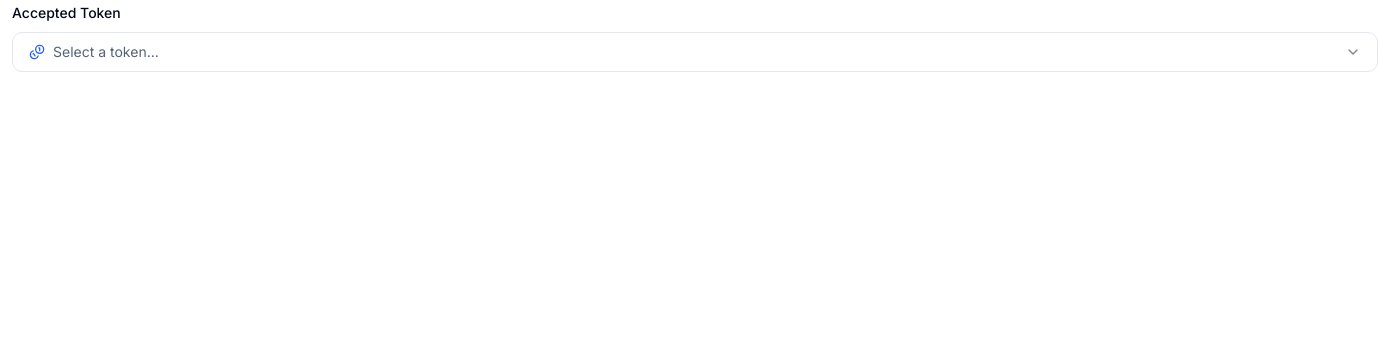
Test: TokenSelector — custom token › rejects a malformed id and clears the error when the input is emptied
The width and height of the screenshot is (1390, 360).
Click the button at (106, 52), box x1=12 y1=32 x2=1378 y2=72
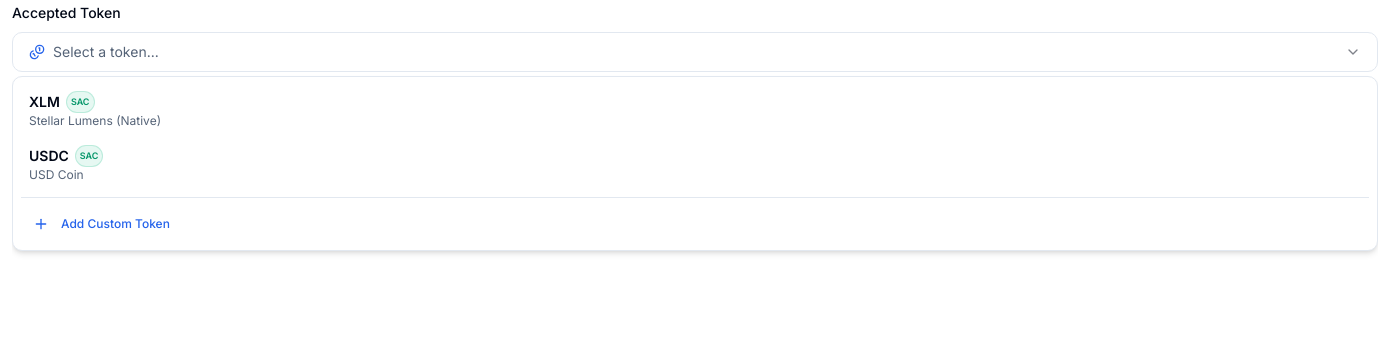
Click the button "Add Custom Token" at (115, 224), box x1=21 y1=206 x2=1369 y2=242
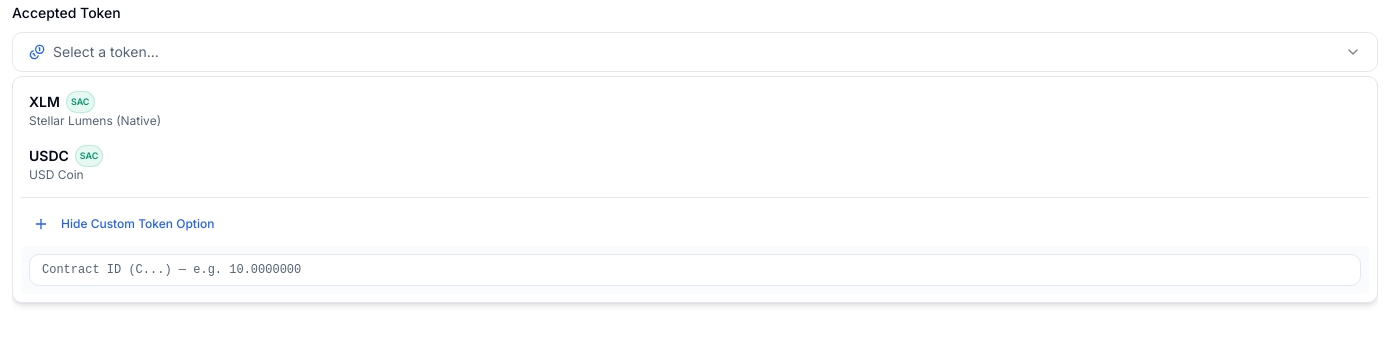
Type "GABC" into the field with placeholder "Contract ID (C...) — e.g. 10.0000000" at (695, 270), box x1=29 y1=254 x2=1361 y2=286
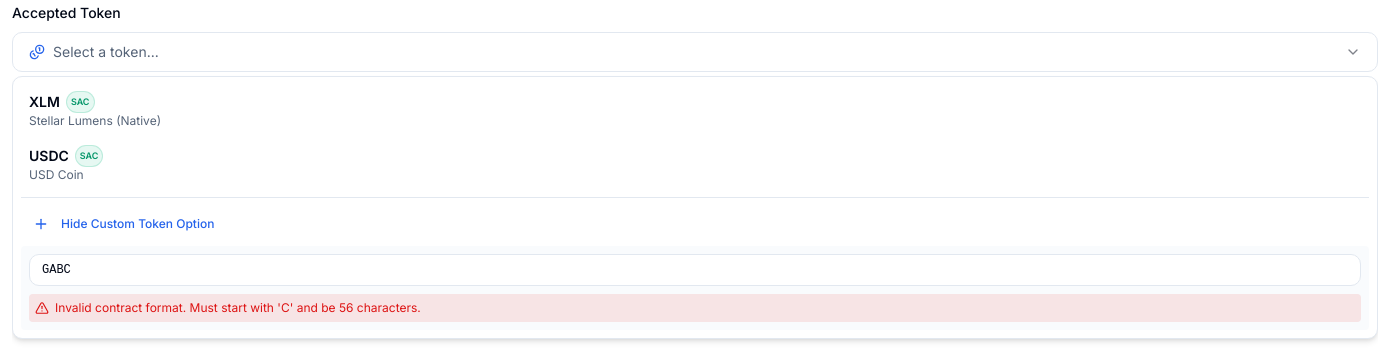
Expected: the text "Invalid contract format. Must start with 'C' and be 56 characters." is shown, x1=55 y1=300 x2=421 y2=316
Clear the field with placeholder "Contract ID (C...) — e.g. 10.0000000" at (695, 270), box x1=29 y1=254 x2=1361 y2=286
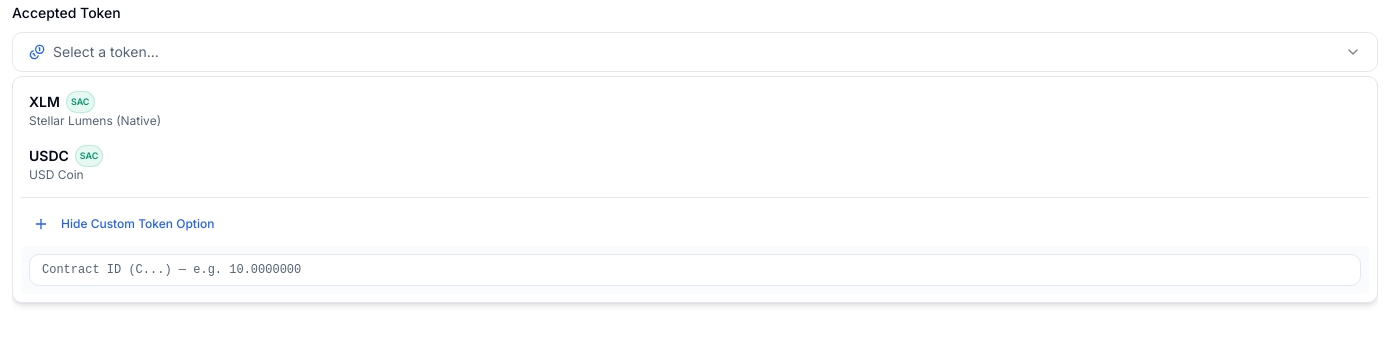
Expected: the text "Invalid contract format" is gone
